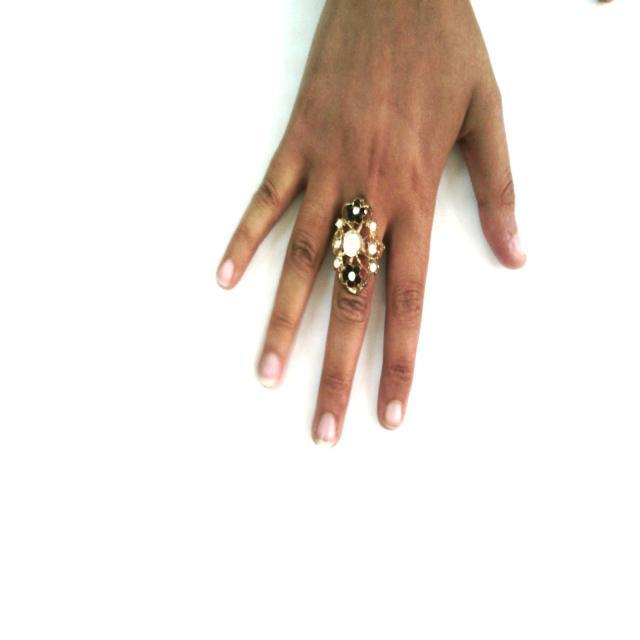Fingernail: (260, 353, 280, 388), (317, 413, 336, 445), (385, 400, 402, 426), (219, 261, 234, 286), (511, 237, 525, 259)
